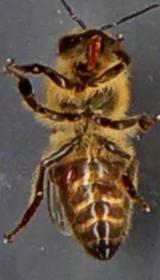varroa_mite: (56, 161, 82, 188)
